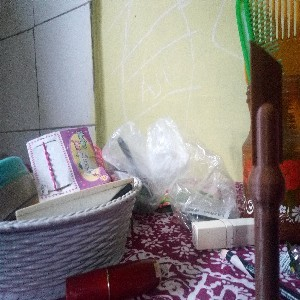cutter: (249, 39, 284, 300)
